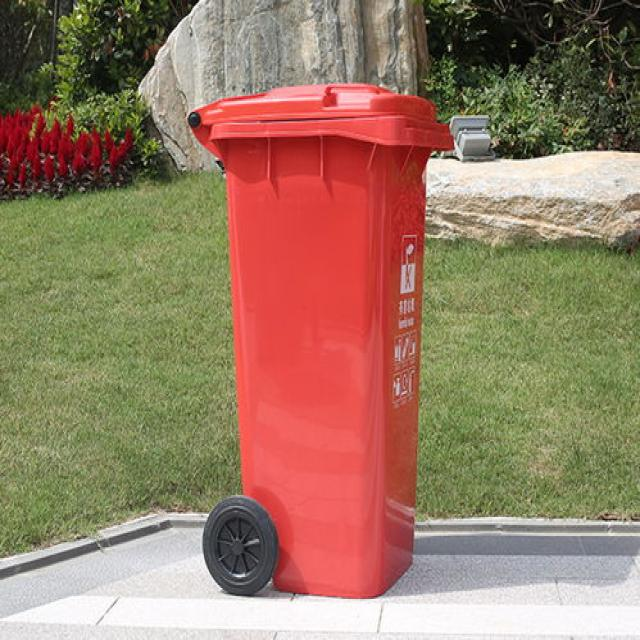garbage_bin: (186, 80, 453, 598)
